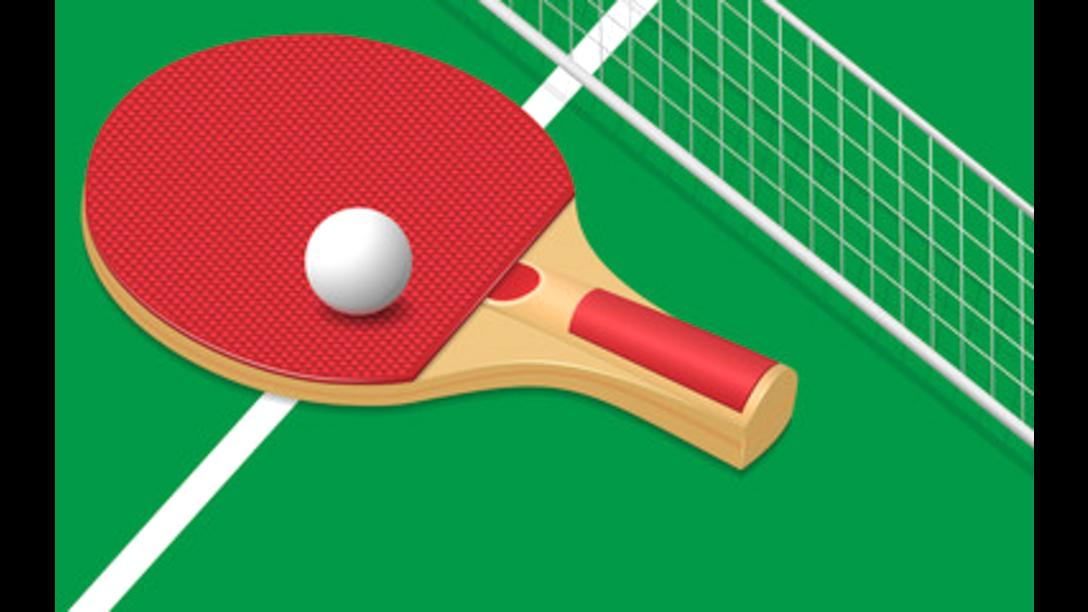Table-Tennis-Ball: (305, 208, 411, 314)
